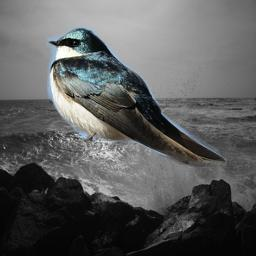Swallow: (46, 26, 227, 167)
